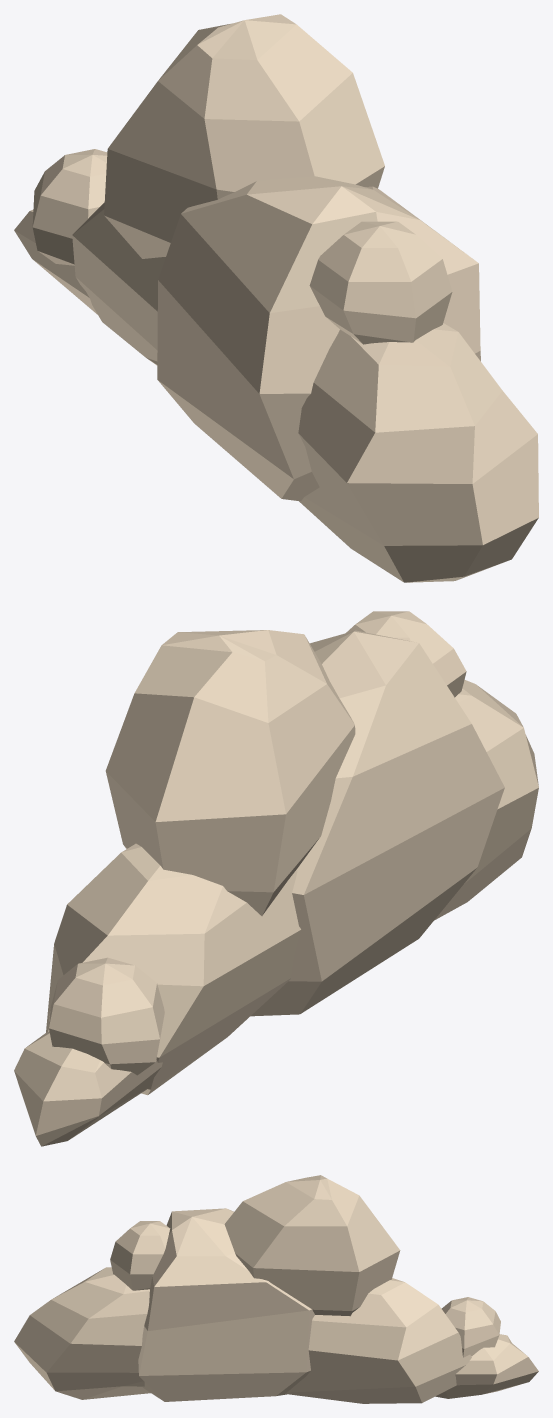
The model's file is Cloud6.fbx.
The picture shows the model from 3 angles, top to bottom: view 1: azimuth 30°, elevation 25°; view 2: azimuth 150°, elevation 25°; view 3: azimuth 270°, elevation 25°; orthographic projection. The views are drawn at different scales.
Parts seen in each view (by area): view 1: Cloud6; view 2: Cloud6; view 3: Cloud6.
Part boxes in pixels (x1,y1,x2,y2): Cloud6: [14, 14, 538, 582]; Cloud6: [14, 611, 538, 1146]; Cloud6: [14, 1175, 538, 1403].
Size of the model in its own units: 121 by 200 by 430.
